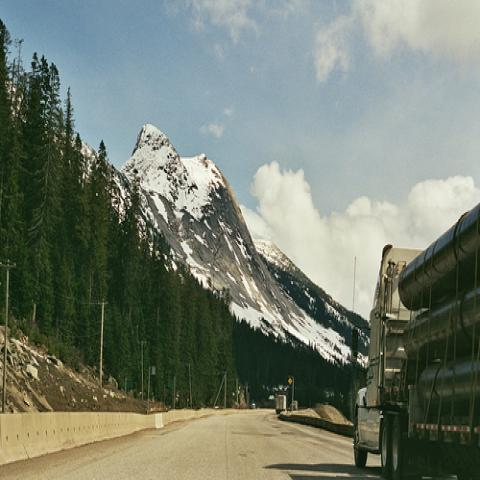truck: (351, 203, 479, 474)
